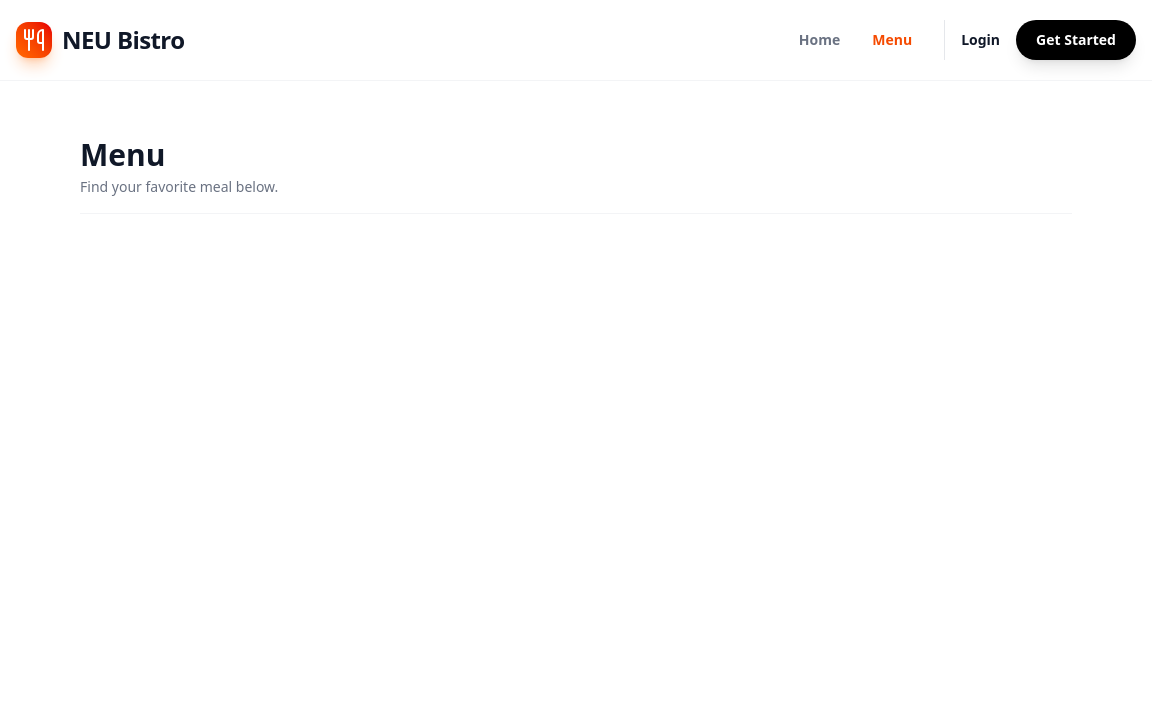
Test: NEU Bistro App Tests › navigates to Login page
The image size is (1152, 720).
Click the link "Login": (981, 40) x1=961 y1=30 x2=1000 y2=50
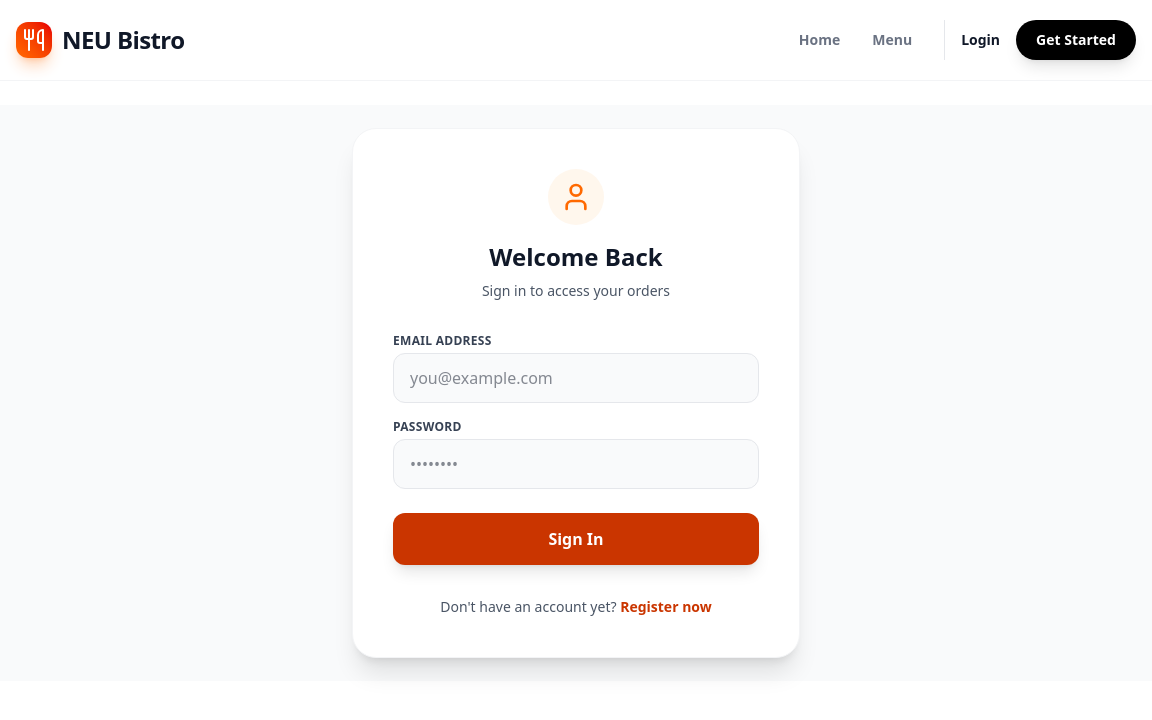
Now the heading "Welcome Back" is shown, box x1=489 y1=240 x2=663 y2=273
